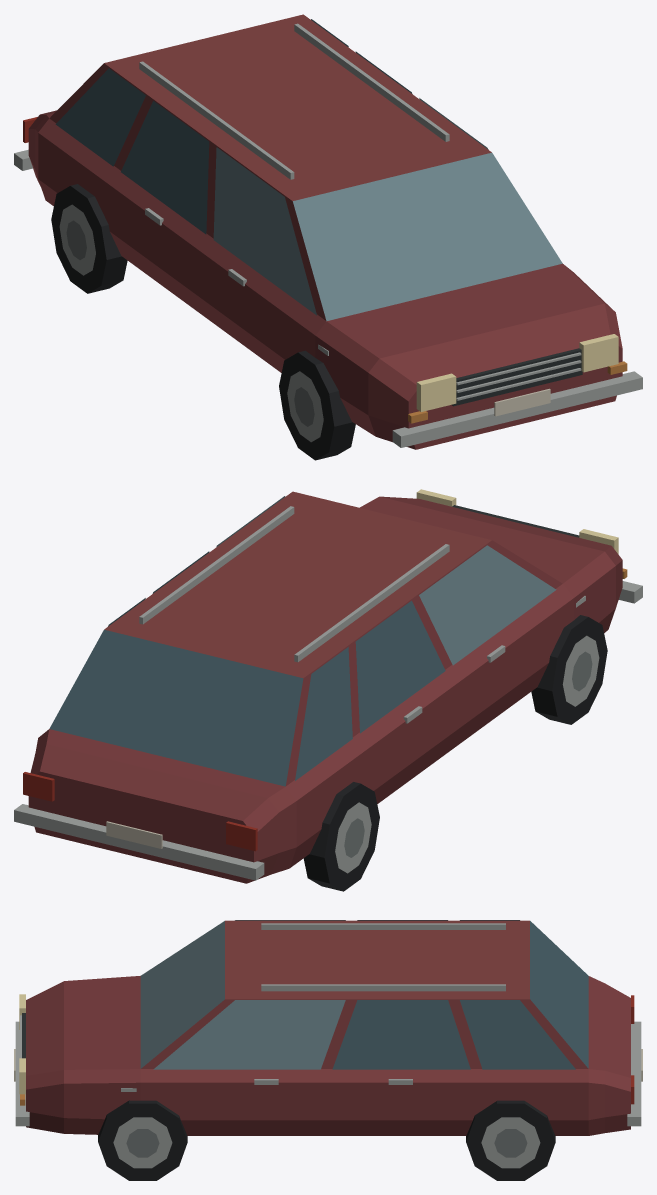
The model's file is car_2.glb.
3 views of the same model, one above another, from view 1: azimuth 30°, elevation 25°; view 2: azimuth 150°, elevation 25°; view 3: azimuth 270°, elevation 25° (orthographic). The views are drawn at different scales.
Parts seen in each view (by area): view 1: Body; view 2: Body; view 3: Body.
Part boxes in pixels (x1=…): Body: x1=14, y1=14, x2=642, y2=460; Body: x1=14, y1=489, x2=642, y2=891; Body: x1=14, y1=920, x2=642, y2=1180.
Bounding box in the file's own units: 0.1504 × 0.1105 × 0.365.
